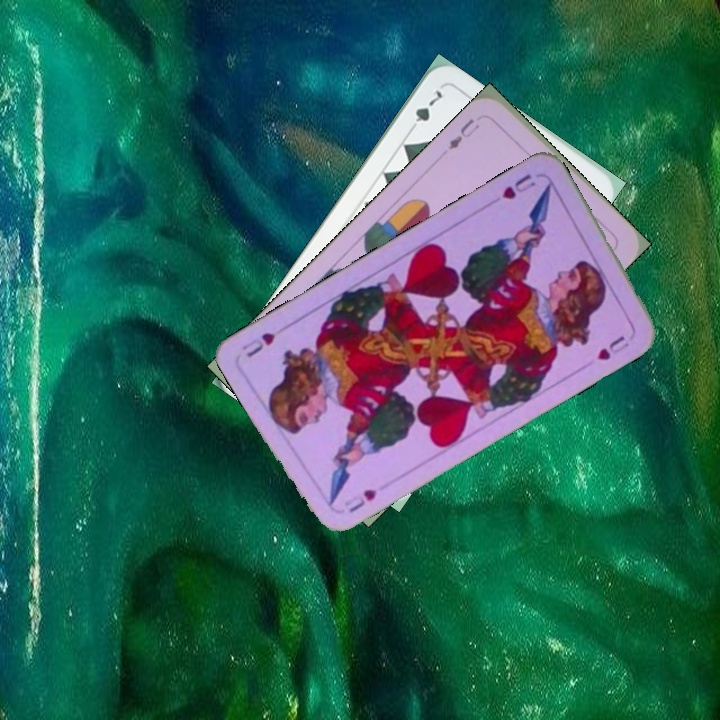EU: (443, 114, 483, 153)
G7: (404, 85, 445, 136)
HU: (498, 169, 538, 202), (340, 484, 380, 515)
